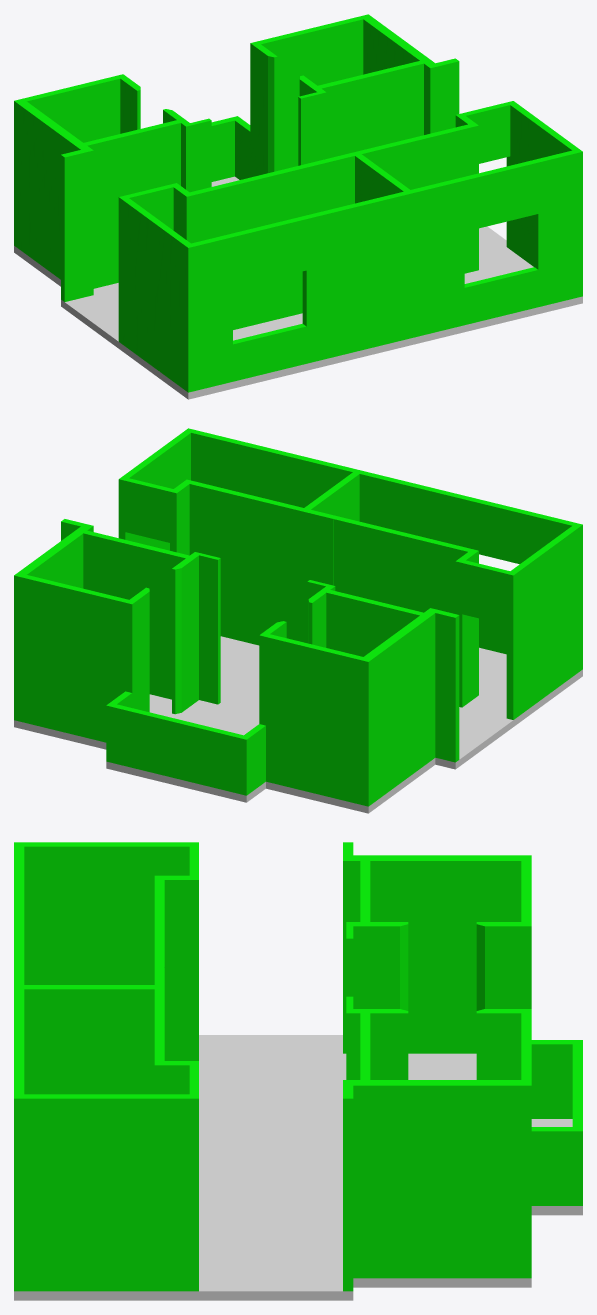
Rendered from LP_CORE.gltf.
3 views of the same model, one above another, from view 1: azimuth 30°, elevation 25°; view 2: azimuth 150°, elevation 25°; view 3: azimuth 270°, elevation 25° (orthographic). The views are drawn at different scales.
Bounding box in the file's own units: 8.85 × 3.25 × 8.3.
